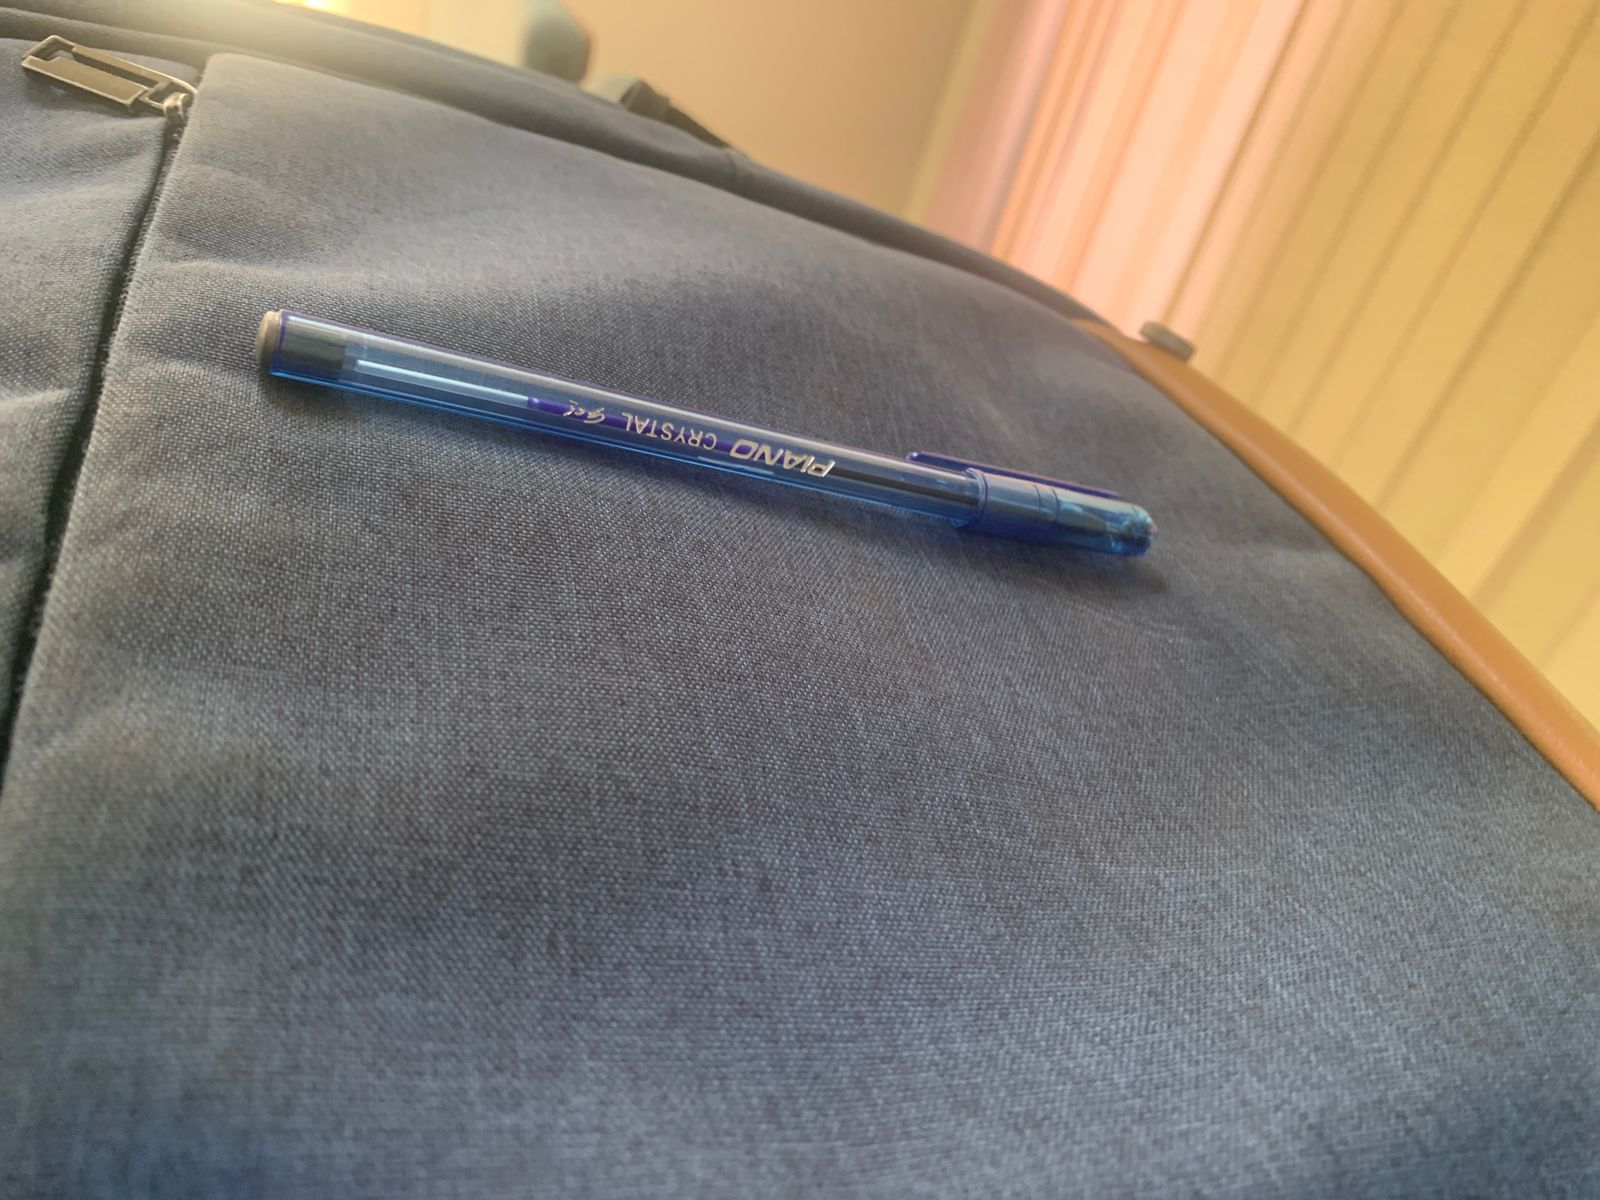pen: (191, 237, 1180, 687)
